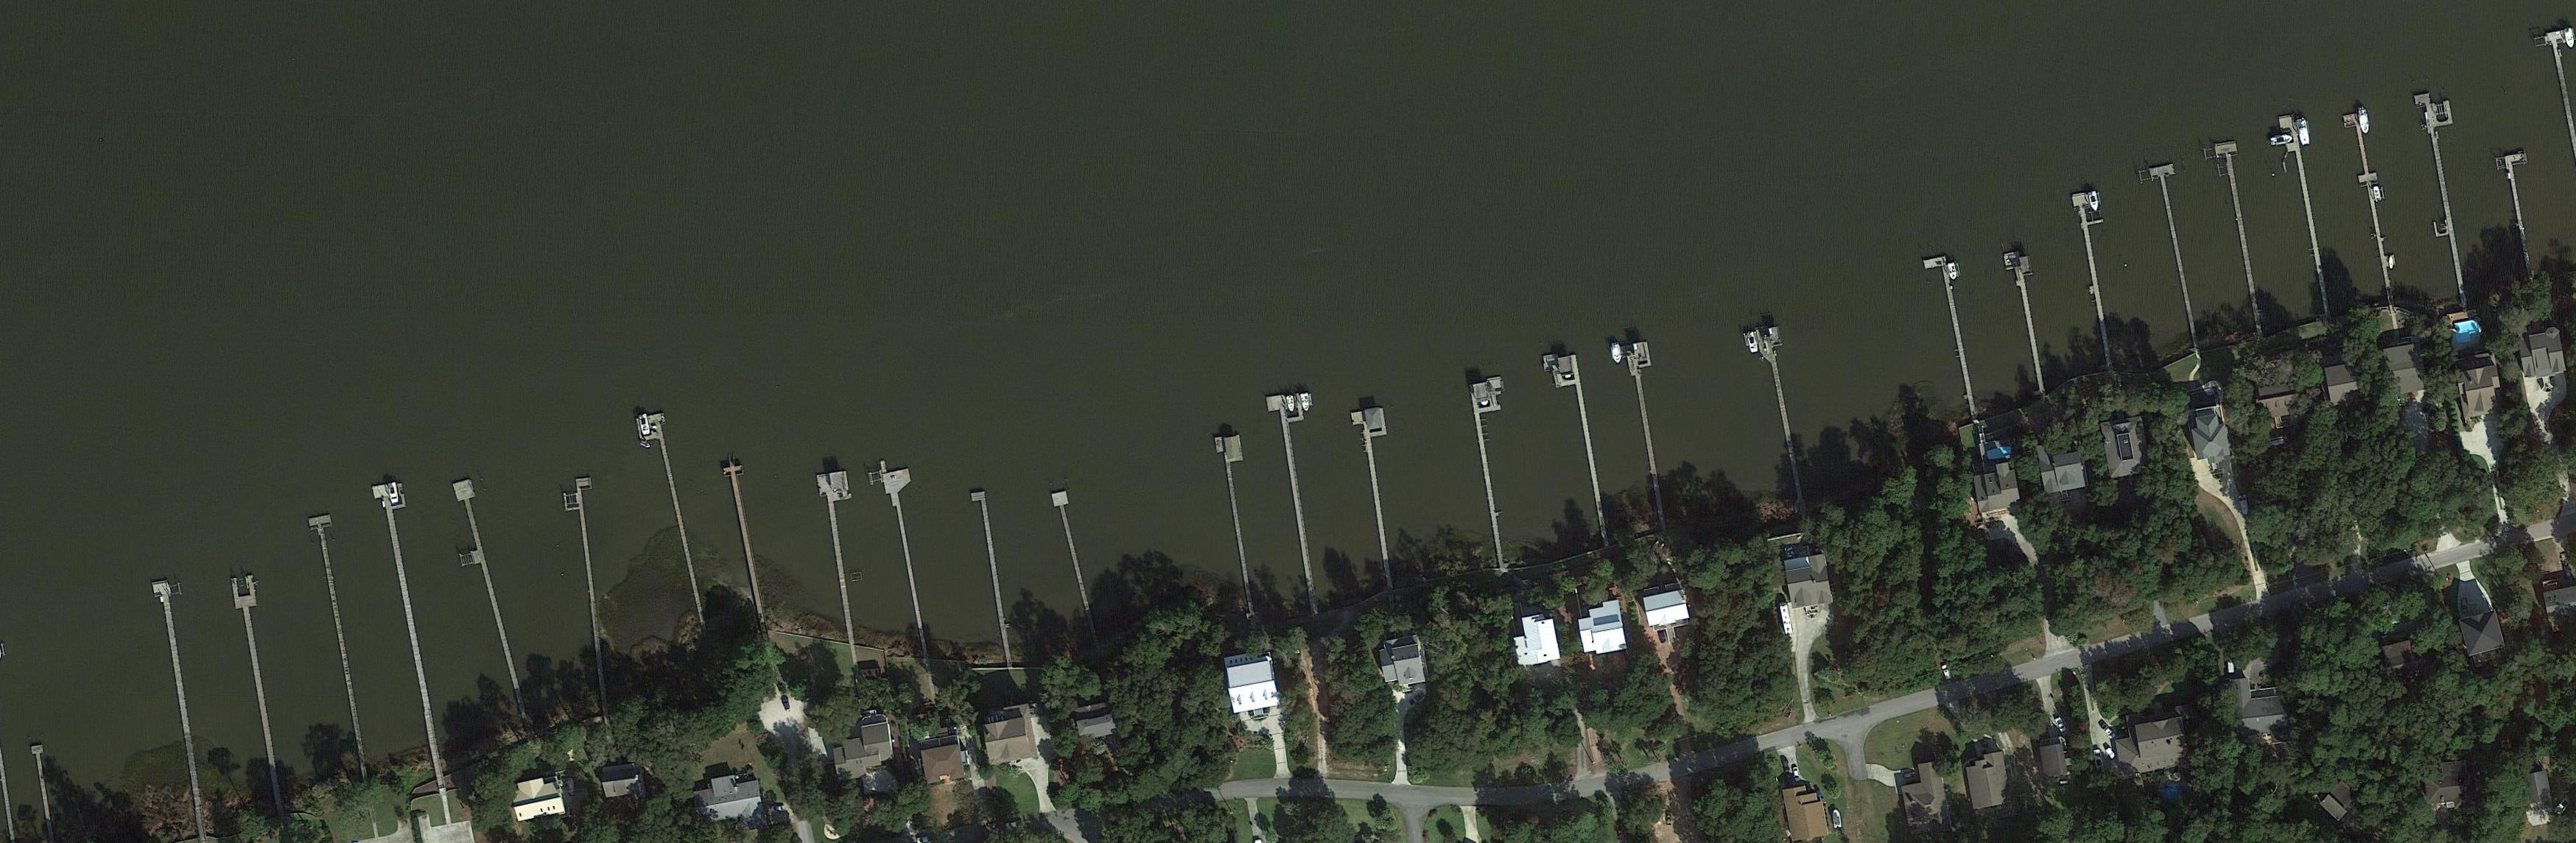harbor: (373, 481, 448, 741), (452, 480, 531, 702), (307, 516, 371, 749), (636, 411, 706, 618), (2413, 89, 2479, 294), (1265, 391, 1327, 595), (1543, 350, 1607, 541), (559, 477, 616, 689), (2343, 112, 2400, 297), (232, 575, 284, 777), (1469, 376, 1526, 557), (2213, 141, 2269, 327), (2150, 163, 2206, 347), (881, 457, 936, 639), (2277, 113, 2330, 306), (1620, 342, 1674, 524), (1349, 408, 1405, 583), (1922, 255, 1978, 426), (151, 580, 199, 779), (2072, 191, 2126, 365), (1756, 325, 1810, 490), (816, 470, 869, 638), (1221, 434, 1265, 608), (2003, 250, 2052, 399), (723, 455, 767, 610), (1050, 490, 1099, 628), (971, 491, 1010, 647), (2505, 153, 2540, 260), (31, 744, 56, 828)
ship: (2295, 117, 2311, 146), (1745, 330, 1761, 355), (2356, 110, 2371, 135), (2270, 131, 2295, 146), (2555, 795, 2571, 817), (2563, 26, 2576, 49), (639, 414, 652, 435), (2093, 749, 2104, 772), (388, 483, 399, 506), (1830, 808, 1843, 828), (2088, 192, 2101, 212), (1610, 343, 1623, 363), (2372, 184, 2384, 204), (1948, 261, 1960, 281), (1299, 393, 1311, 412), (1285, 394, 1296, 412), (2389, 256, 2395, 271)
